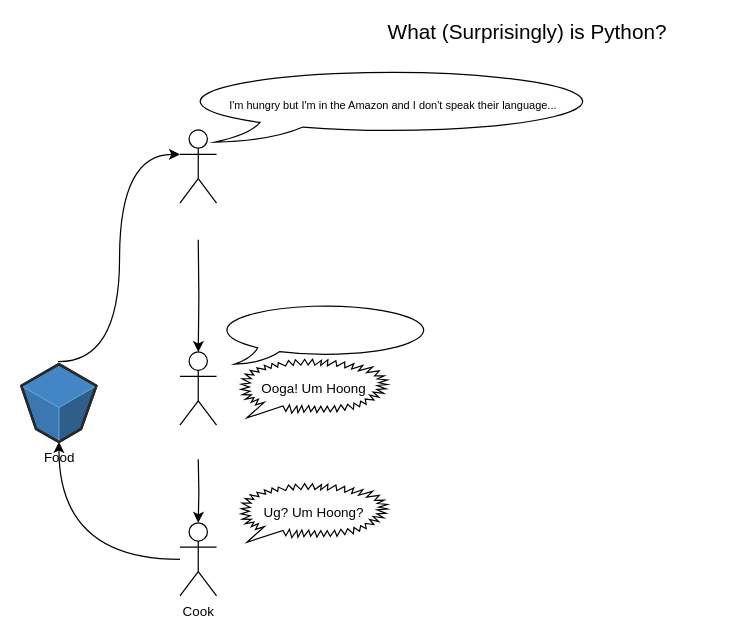
Some shapes in this 750 by 642 pixel diagram are drawn without their labels. The shapes that lost their labels are listed below. From the top down, each one's centre as x and y in pixels, then its label:
At point 198,166: "You".
At point 325,333: "But I speak their language!".
At point 198,388: "Interpreter".
